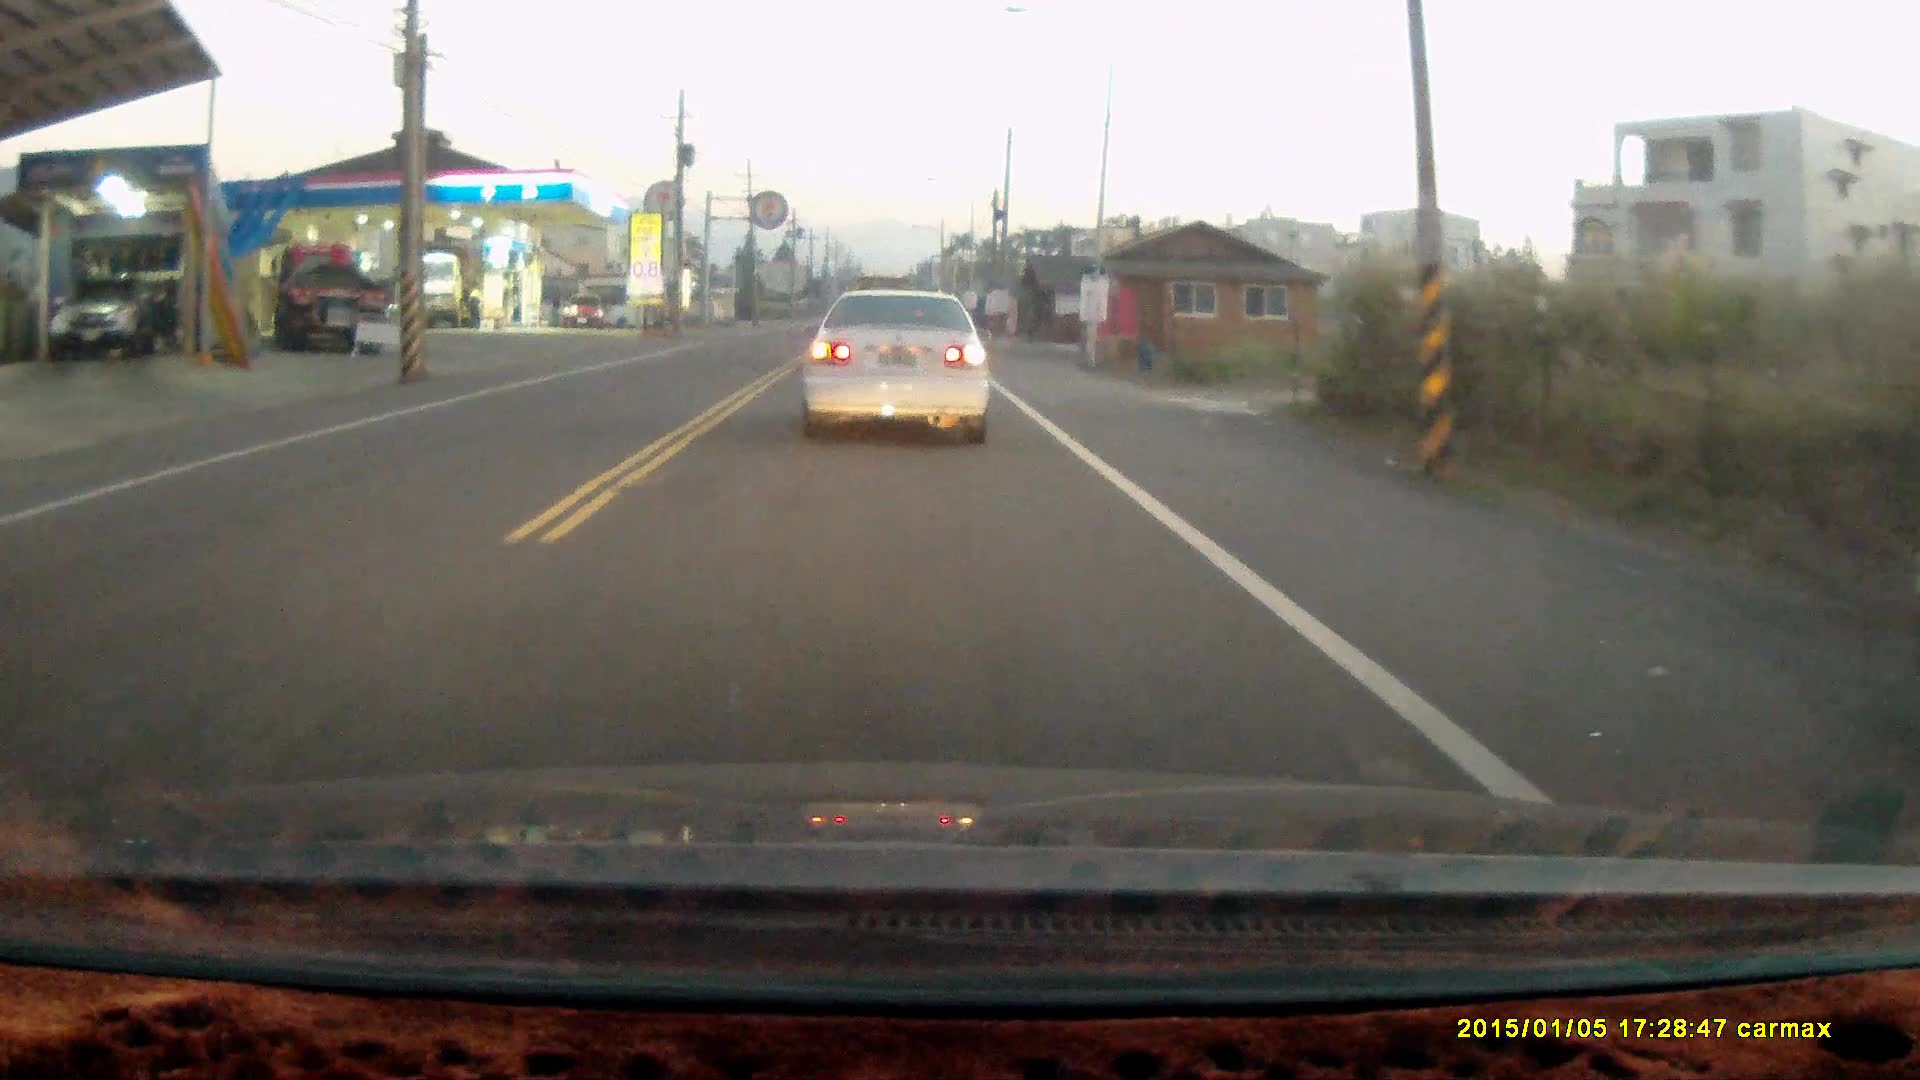pedestrian: (464, 281, 484, 326)
vehicle: (795, 288, 995, 450), (270, 244, 391, 354), (394, 242, 479, 326), (564, 294, 607, 328)
